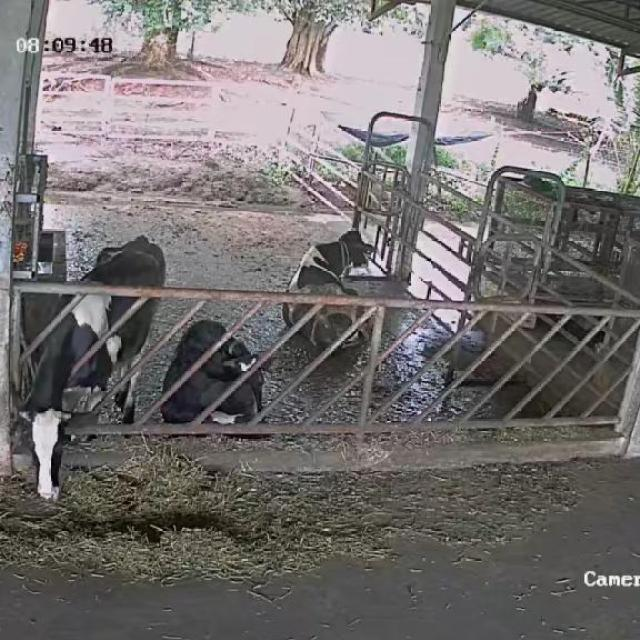feeding: (23, 234, 174, 509)
lying down: (164, 318, 272, 435), (282, 228, 376, 348)
